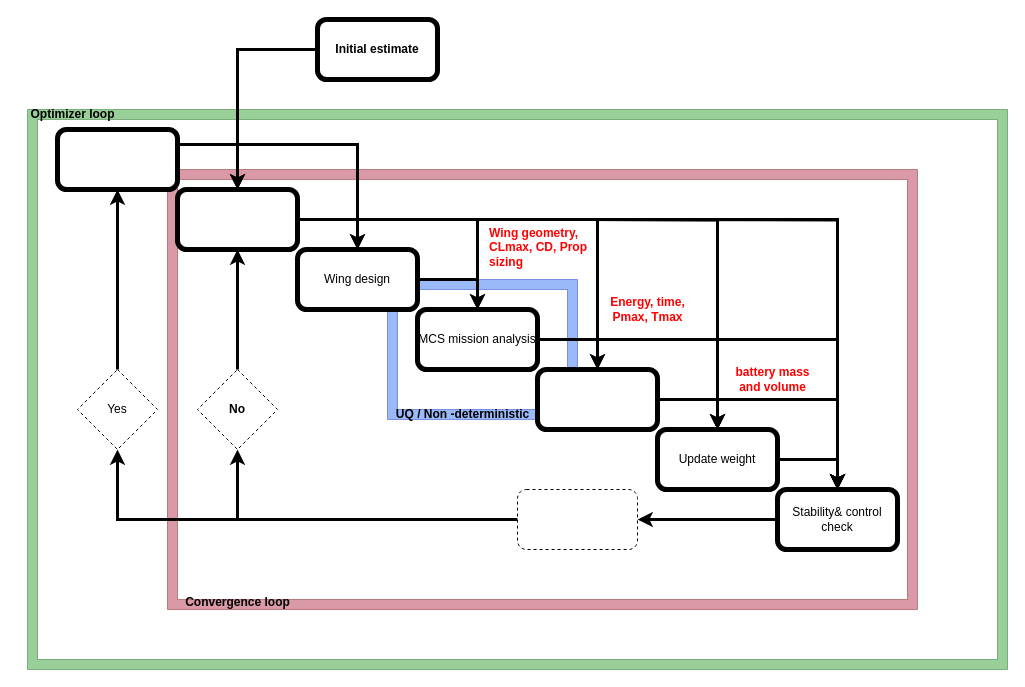
The diagram is 1025 pixels wide and 687 high, and some of its shapes have lost their labels. The shapes that lost their labels are listed below. From the top down, each one's box as (x1, y1, x2, y2) in pixels, then its label:
(54, 126, 180, 192): Design variables : AR1, AR2, Sr/Sf, Xr, Xbat
(174, 186, 300, 252): Aerodynamics
(534, 366, 660, 432): Engine and battery sizing
(516, 488, 638, 550): Has the weight converged?
